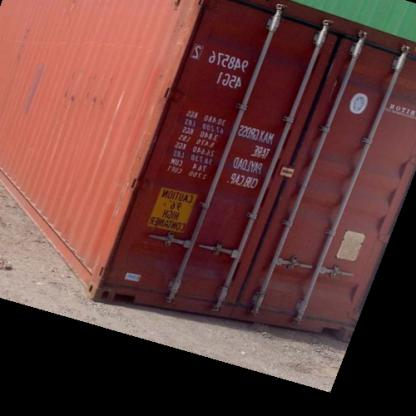Damage: (204, 192, 244, 244), (24, 60, 48, 118), (51, 87, 107, 105), (13, 17, 33, 55)
